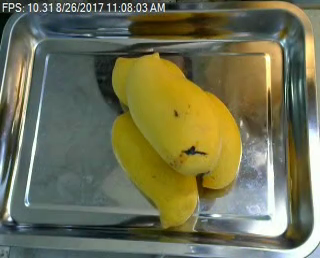Mango: (124, 51, 223, 181), (105, 109, 200, 229), (189, 81, 243, 193)
